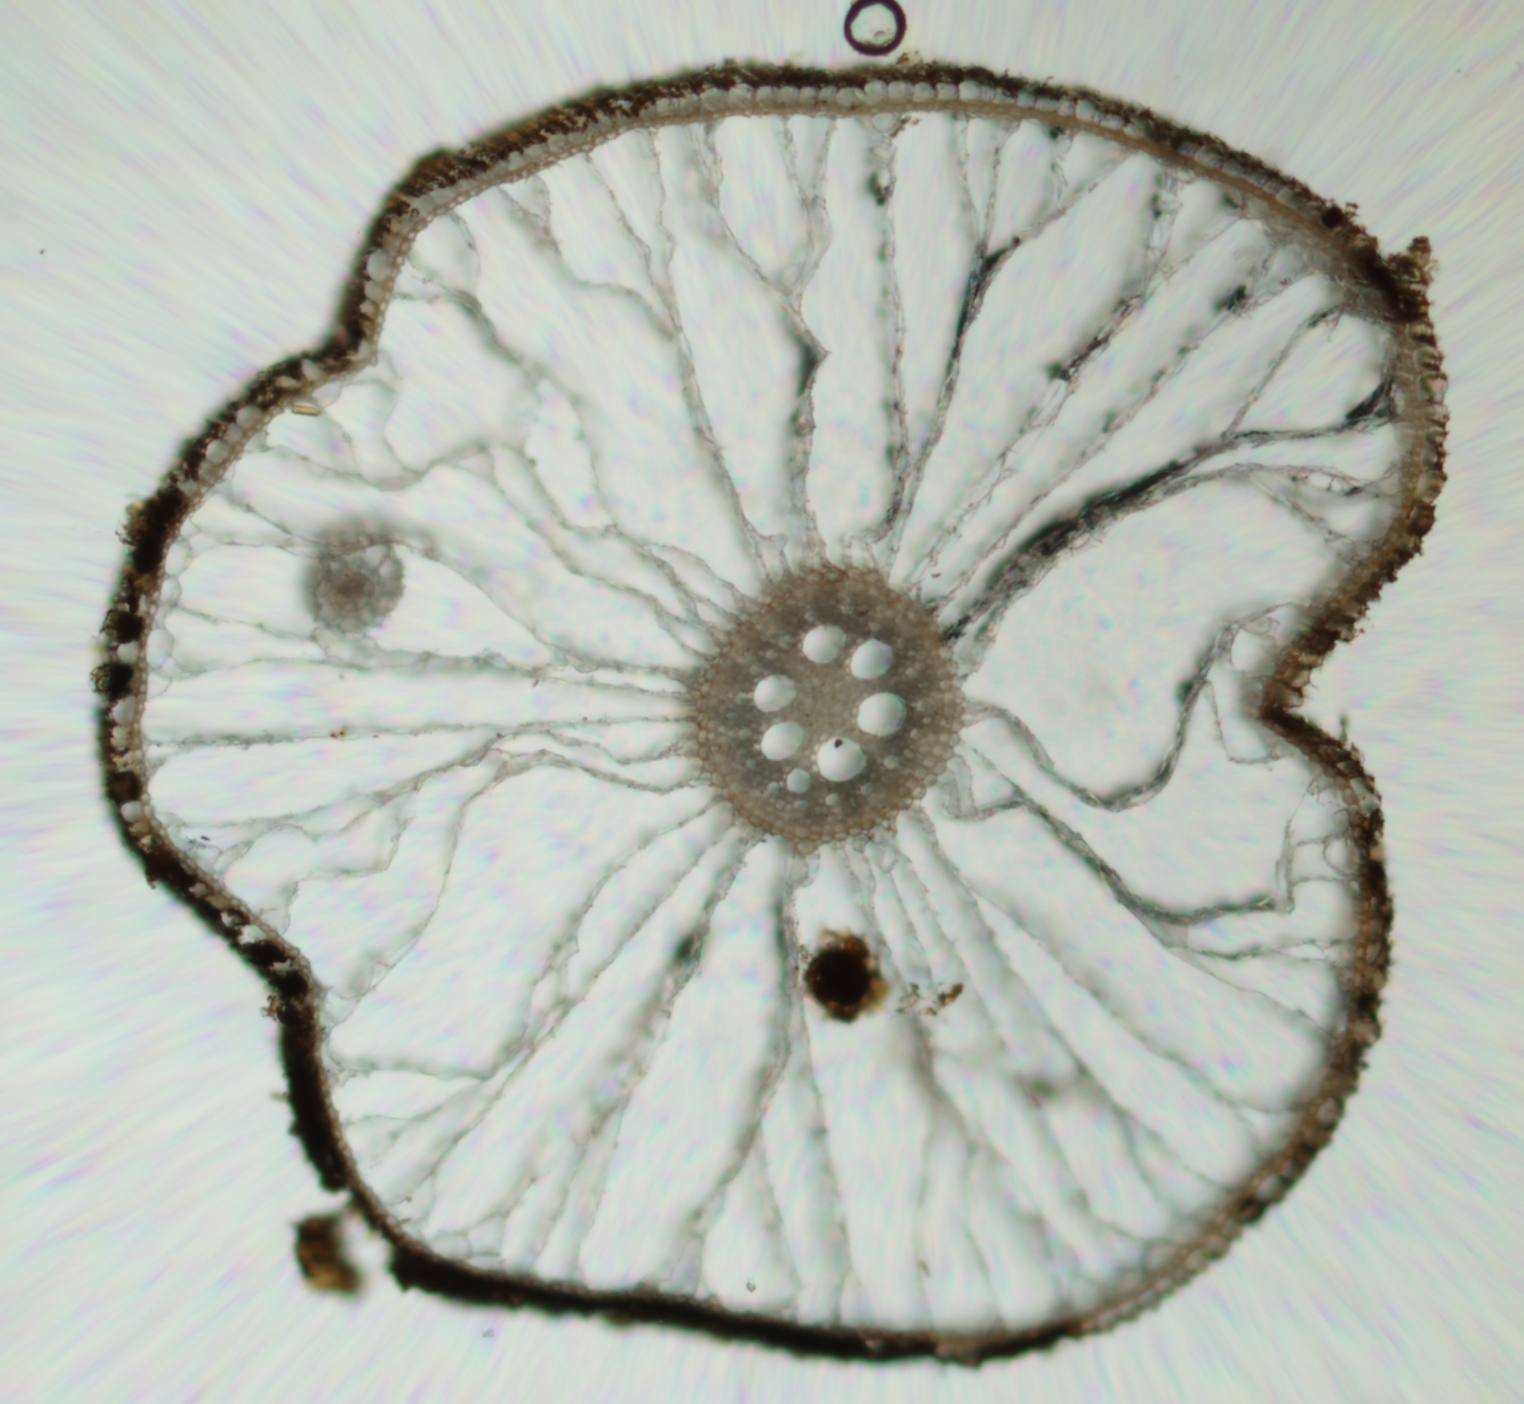lm: (816, 737, 867, 782), (858, 691, 908, 737), (753, 673, 798, 713), (761, 721, 804, 760), (850, 640, 893, 679), (802, 625, 847, 664), (786, 767, 811, 794)
